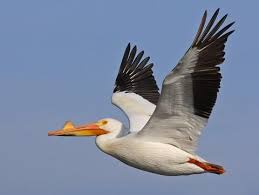pelican: (48, 8, 231, 176)
